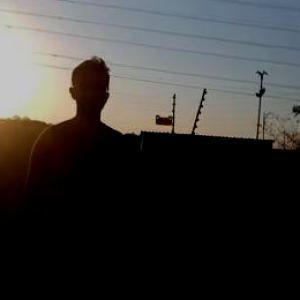follow: (22, 52, 140, 299)
